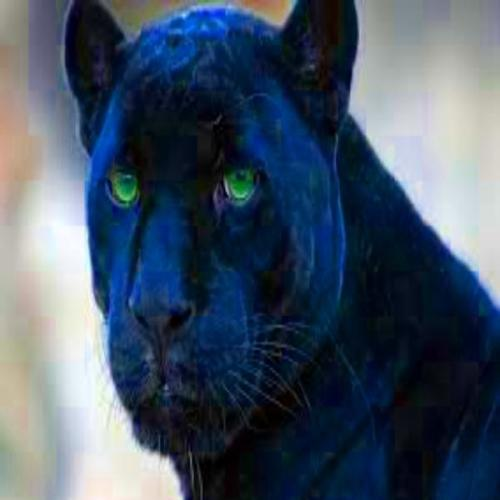panther-endangered: (61, 0, 500, 500)
